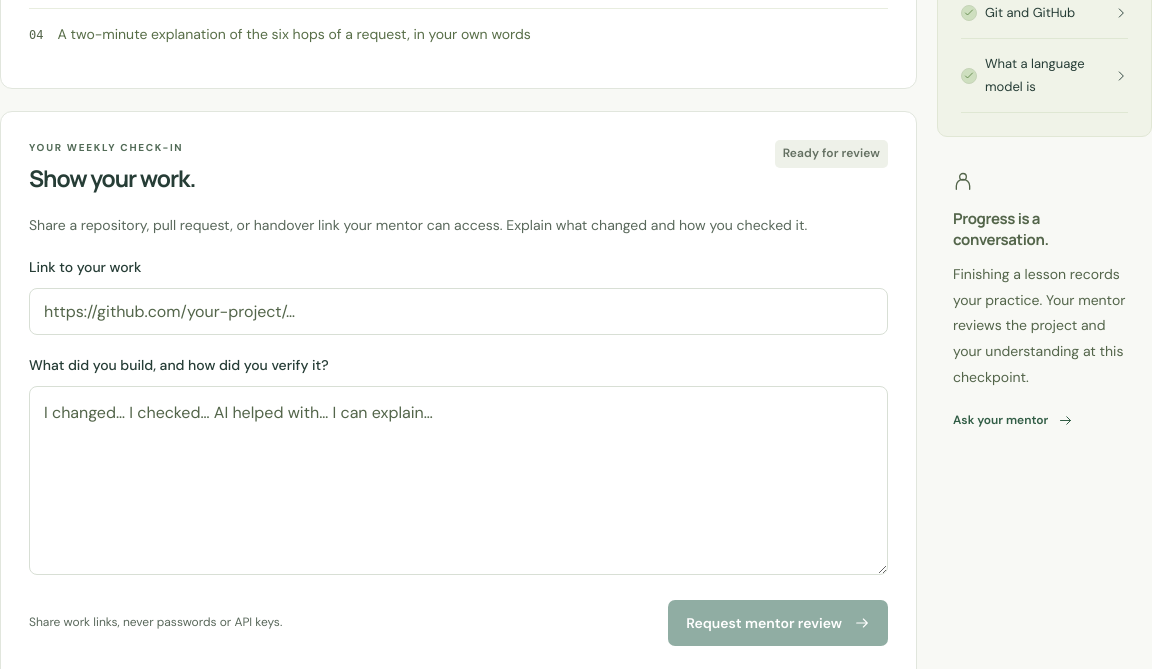
Test: project checkpoint › retains evidence after a failed save and submits successfully on retry
(page scrolled)
In the field labelled "Link to your work": (458, 312) left=29, top=288, right=888, bottom=335, type "https://github.com/example/work"
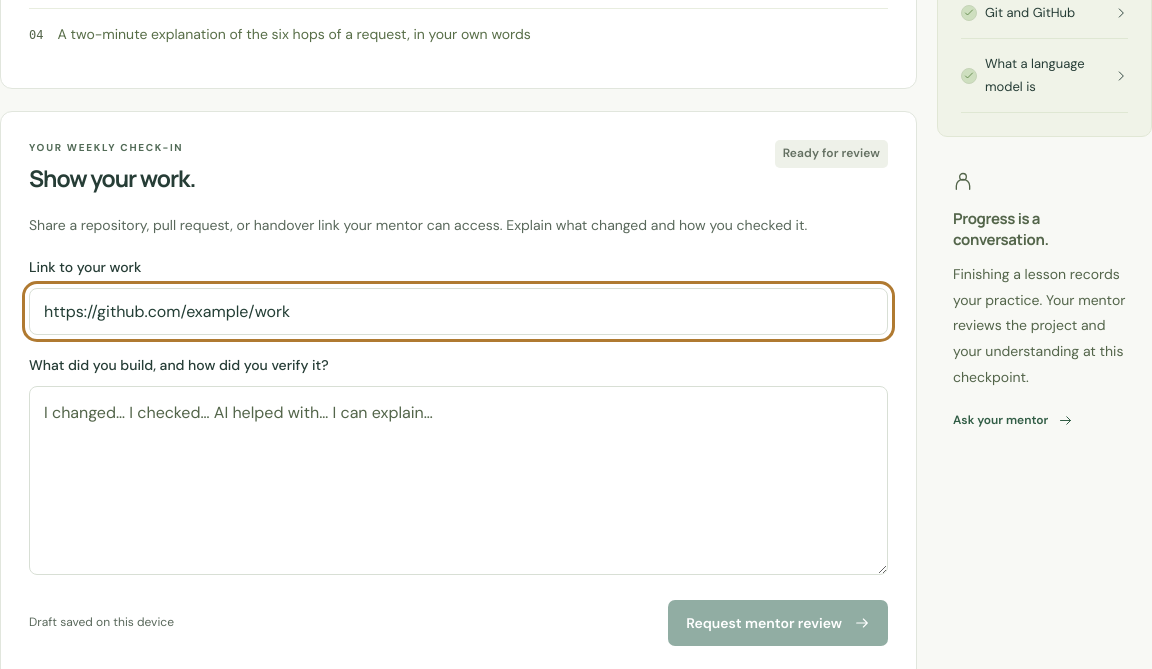
In the text box labelled "What did you build, and how did you verify it?": (458, 480) left=29, top=386, right=888, bottom=575, type "I built and tested a task list with blank input checks."
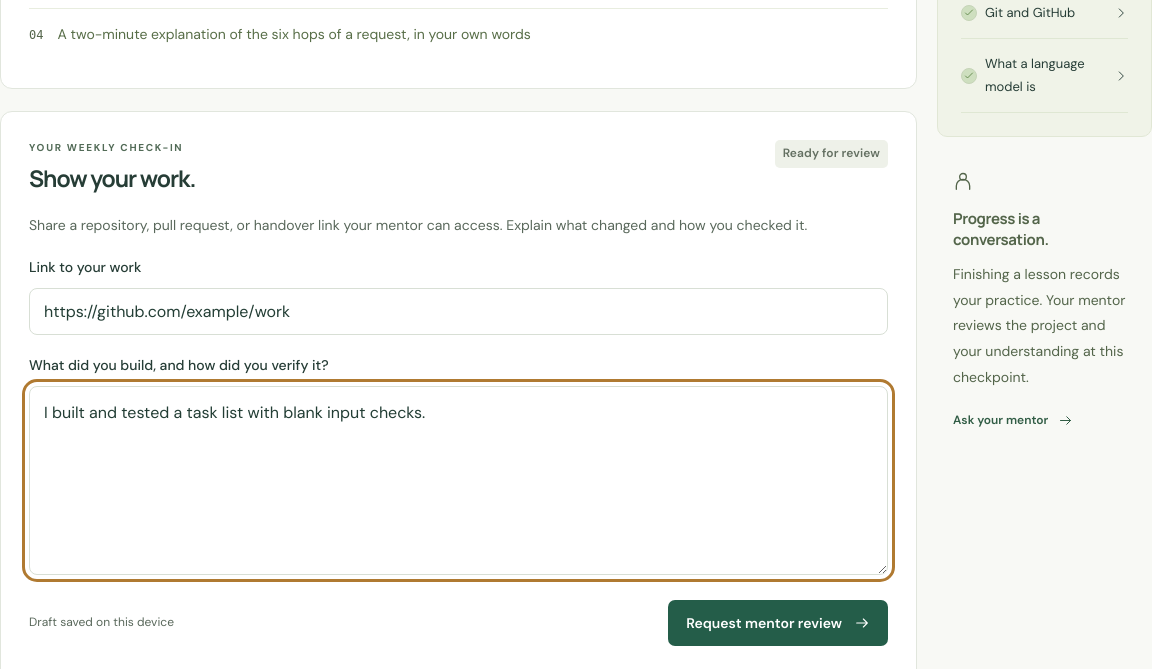
Click the button "Request mentor review": (778, 623) left=668, top=600, right=888, bottom=646
(page scrolled)
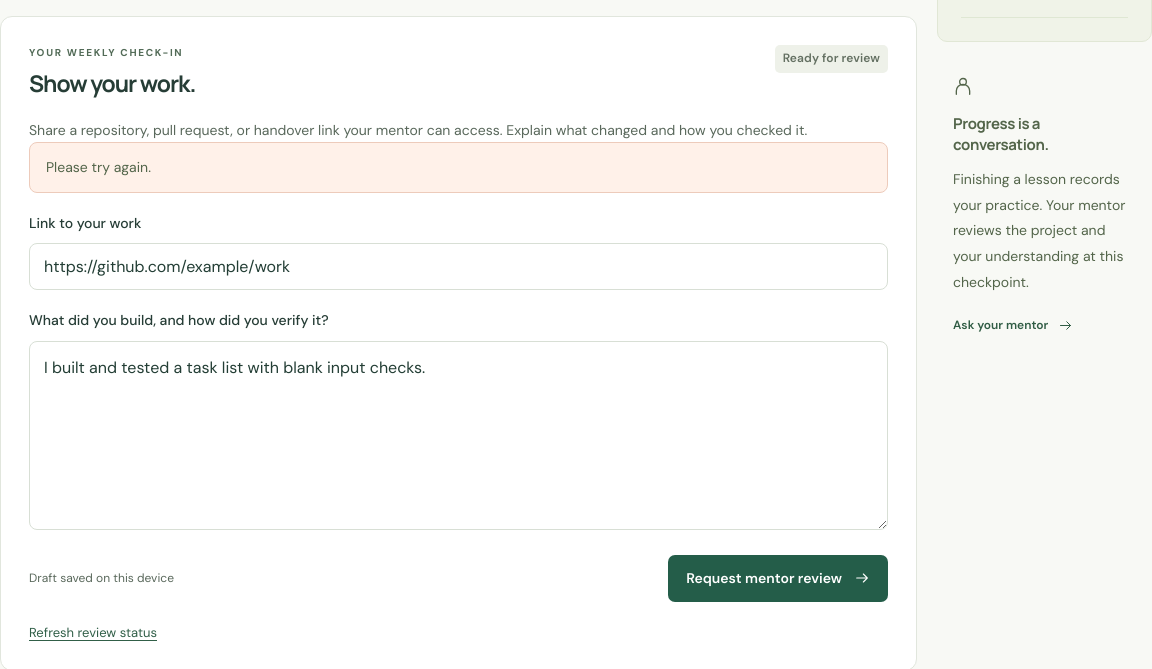
Expected: the message reads "Please try again.", left=46, top=158, right=151, bottom=176
Click the button "Request mentor review": (778, 578) left=668, top=555, right=888, bottom=602
(page scrolled)
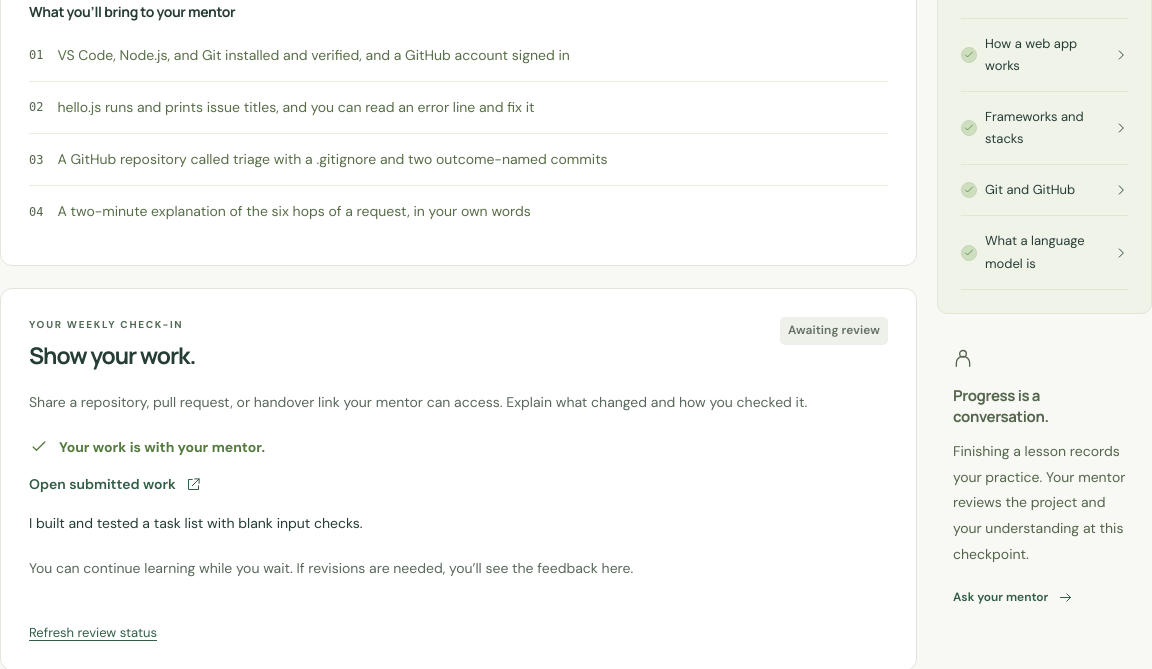
Expected: the text "Your work is with your mentor." is shown, left=59, top=438, right=265, bottom=456
